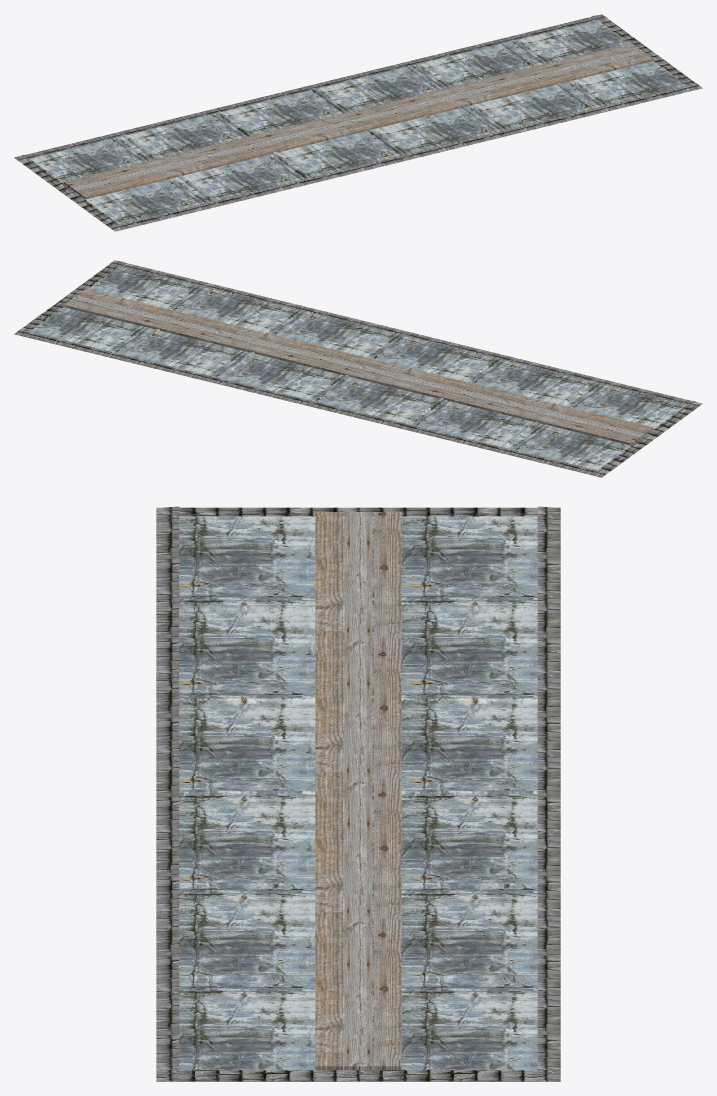
File: roof-ridge-walk.glb
3 renders of one model, top to bottom at view 1: azimuth 30°, elevation 25°; view 2: azimuth 150°, elevation 25°; view 3: azimuth 270°, elevation 25°, orthographic. The views are drawn at different scales.
Parts seen in each view (by area): view 1: roof-ridge-walk; view 2: roof-ridge-walk; view 3: roof-ridge-walk.
Part boxes in pixels (x1,y1,x2,y2): roof-ridge-walk: [14, 14, 702, 231]; roof-ridge-walk: [14, 260, 702, 477]; roof-ridge-walk: [156, 506, 560, 1081].
Bounding box in the file's own units: 9.4 × 0.042 × 2.8.
3 materials, 3 textured.
